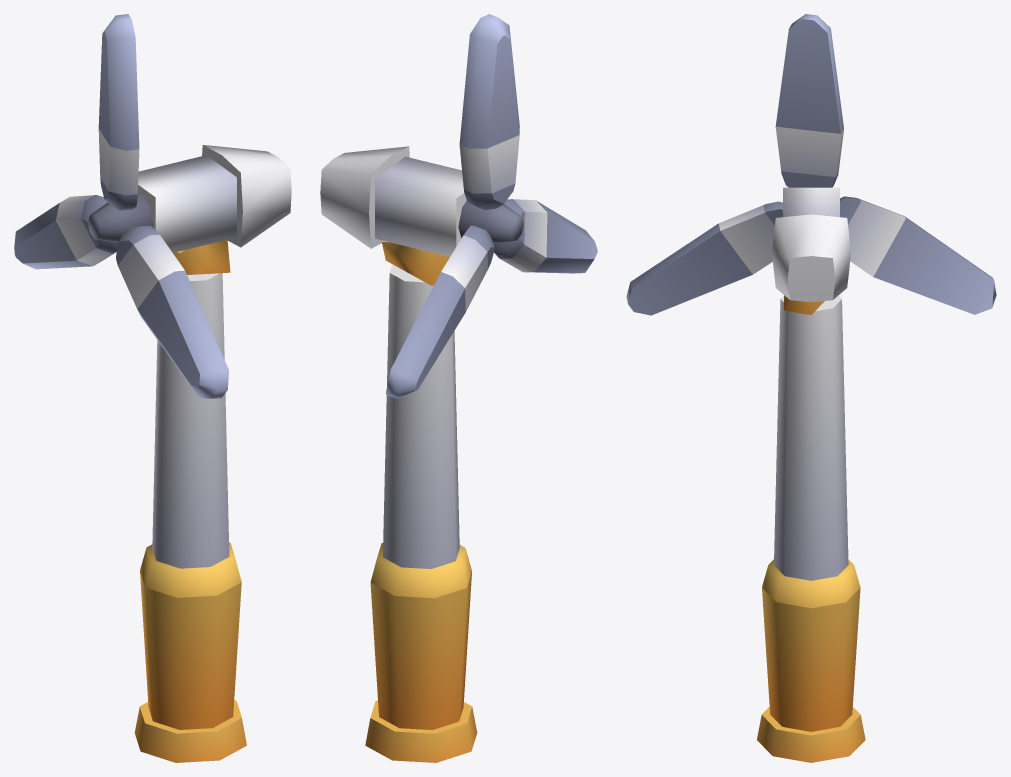
Rendered from windmill.lod.glb.
3 renders of one model, left to right at view 1: azimuth 30°, elevation 25°; view 2: azimuth 150°, elevation 25°; view 3: azimuth 270°, elevation 25°, orthographic. The views are drawn at different scales.
Parts seen in each view (by area): view 1: windmill, blades; view 2: windmill, blades; view 3: windmill, blades.
Part boxes in pixels (bbox=[...]): windmill: bbox=[88, 145, 291, 762]; blades: bbox=[14, 14, 228, 398]; windmill: bbox=[320, 146, 523, 762]; blades: bbox=[385, 14, 597, 398]; windmill: bbox=[757, 187, 865, 762]; blades: bbox=[626, 14, 996, 315].
Size of the model in its own units: 0.6048 by 2.31 by 1.12.
1 material, 1 textured.
